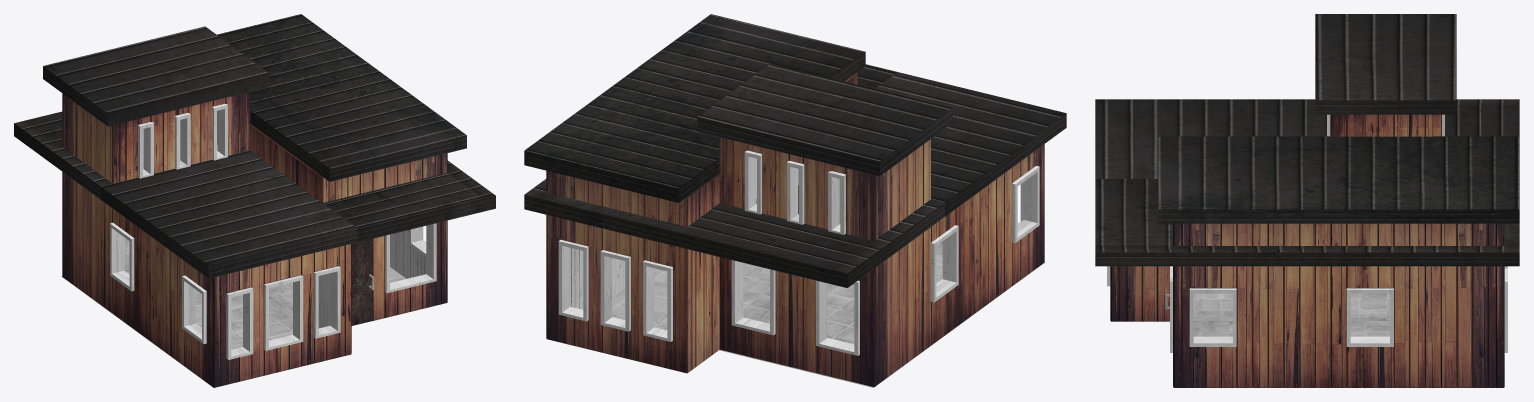
The model's file is TexturedCabin.fbx.
3 renders of one model, left to right at view 1: azimuth 30°, elevation 25°; view 2: azimuth 150°, elevation 25°; view 3: azimuth 270°, elevation 25°, orthographic. The views are drawn at different scales.
Visible parts, largest first — view 1: polySurface5, pCube11, pCube12, polySurface8, pCube14, pCube22, pPlane1, pCube54, pCube51, pCube52, pCube47, pCube38 (+7 smaller); view 2: polySurface9, pCube11, polySurface5, pCube14, pCube22, pCube12, pPlane2, pPlane1, pCube45, pCube48, pCube49, pCube38 (+7 smaller); view 3: polySurface1, pCube11, pCube22, pCube14, pCube12, polySurface8, polySurface5, pPlane1, pPlane2, pCube36, pCube37.
Boxes of the visible parts, <box> form: polySurface5: <box>62,91,250,387</box>; pCube11: <box>217,14,466,181</box>; pCube12: <box>100,150,358,278</box>; polySurface8: <box>214,124,447,387</box>; pCube14: <box>43,26,269,126</box>; pCube22: <box>14,111,495,241</box>; pPlane1: <box>61,264,292,387</box>; pCube54: <box>351,239,372,325</box>; pCube51: <box>264,275,303,350</box>; pCube52: <box>226,287,253,359</box>; pCube47: <box>385,223,436,293</box>; pCube38: <box>110,223,134,291</box>; polySurface9: <box>546,137,873,386</box>; pCube11: <box>524,14,865,202</box>; polySurface5: <box>756,139,1044,386</box>; pCube14: <box>697,63,952,175</box>; pCube22: <box>524,64,944,287</box>; pCube12: <box>875,72,1066,216</box>; pPlane2: <box>612,263,769,373</box>; pPlane1: <box>719,241,1043,387</box>; pCube45: <box>558,239,588,321</box>; pCube48: <box>600,250,630,331</box>; pCube49: <box>643,260,672,341</box>; pCube38: <box>931,225,958,302</box>; polySurface1: <box>1174,223,1503,387</box>; pCube11: <box>1158,136,1519,223</box>; pCube22: <box>1095,99,1519,266</box>; pCube14: <box>1315,14,1456,114</box>; pCube12: <box>1095,99,1326,178</box>; polySurface8: <box>1110,223,1173,387</box>; polySurface5: <box>1330,114,1433,136</box>; pPlane1: <box>1193,293,1389,320</box>; pPlane2: <box>1181,321,1488,387</box>; pCube36: <box>1189,288,1236,346</box>; pCube37: <box>1346,288,1393,346</box>.
Bounding box in the file's own units: 23 × 16 × 27.
Materials: 10 (10 with a texture image).
